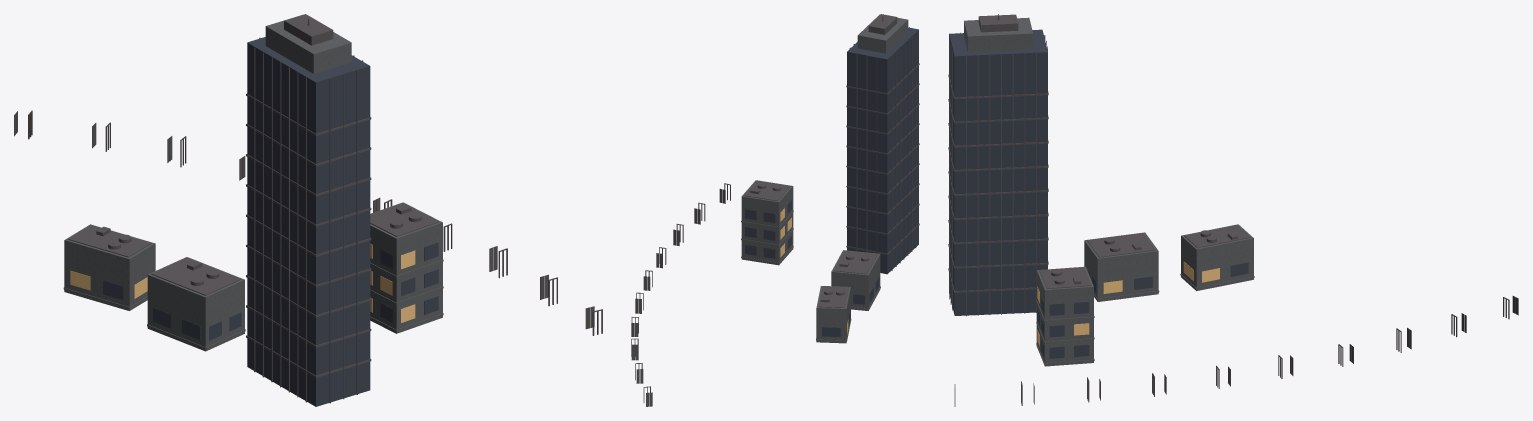
The model's file is SM_City_AbrajAlMalih_0.fbx.
The picture shows the model from 3 angles, left to right: view 1: azimuth 30°, elevation 25°; view 2: azimuth 150°, elevation 25°; view 3: azimuth 270°, elevation 25°; orthographic projection. The views are drawn at different scales.
Parts seen in each view (by area): view 1: SM_City_AbrajAlMalih_0; view 2: SM_City_AbrajAlMalih_0; view 3: SM_City_AbrajAlMalih_0.
Part boxes in pixels (bbox=[...]): SM_City_AbrajAlMalih_0: bbox=[14, 14, 602, 406]; SM_City_AbrajAlMalih_0: bbox=[631, 14, 919, 406]; SM_City_AbrajAlMalih_0: bbox=[948, 14, 1518, 406].
Size of the model in its own units: 4509 by 4293 by 7683.
Materials: 6 (6 with a texture image).
